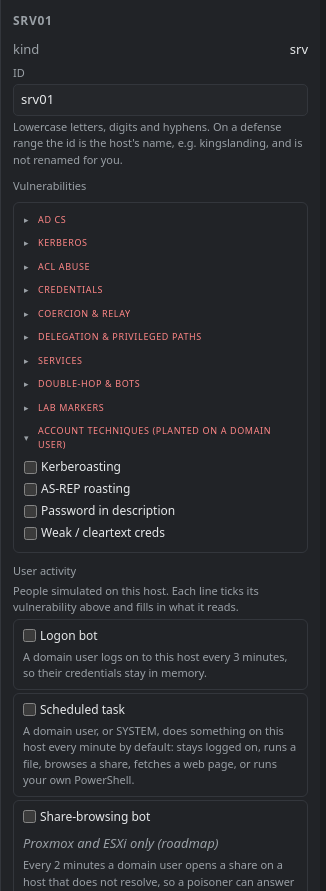
Test: account techniques on the host vuln picker › checking kerberoasting on a domain-joined host plants a marked user
What coordinates should you click on to do the following:
click the checkbox labelled "Kerberoasting"
I would click on:
 (30, 467)
Its box is [24,460,37,474].
(page scrolled)
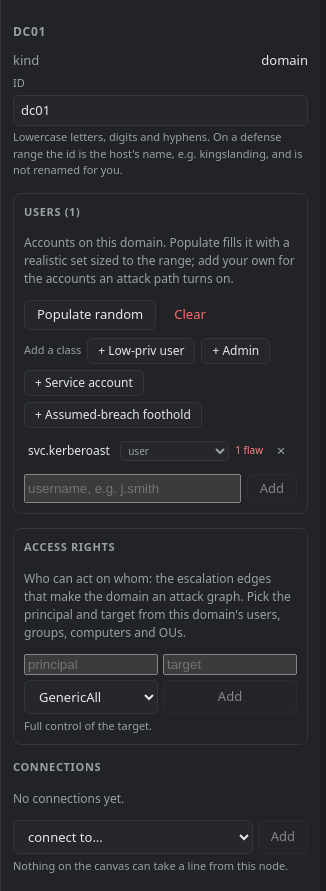
Now the button "svc.kerberoast" is shown, box [28,442,114,460]
Now the text "1 flaw" is shown, box [235,443,263,458]
